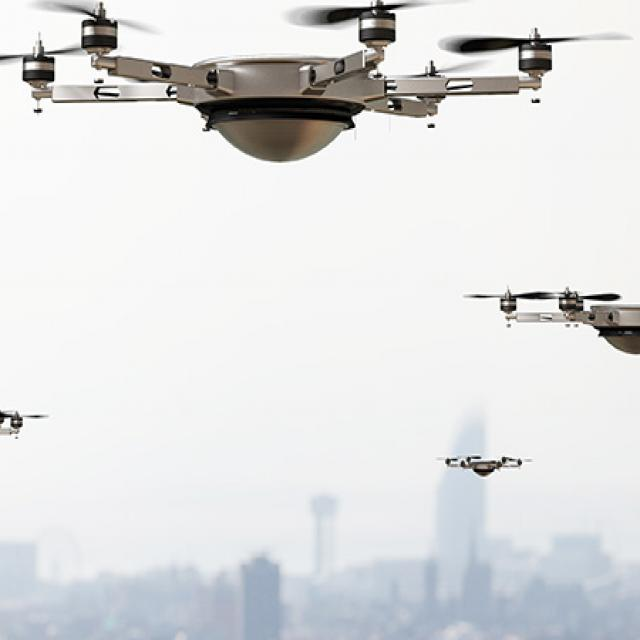drone: (0, 0, 575, 140), (475, 280, 640, 362), (0, 397, 51, 472), (444, 446, 532, 486)
